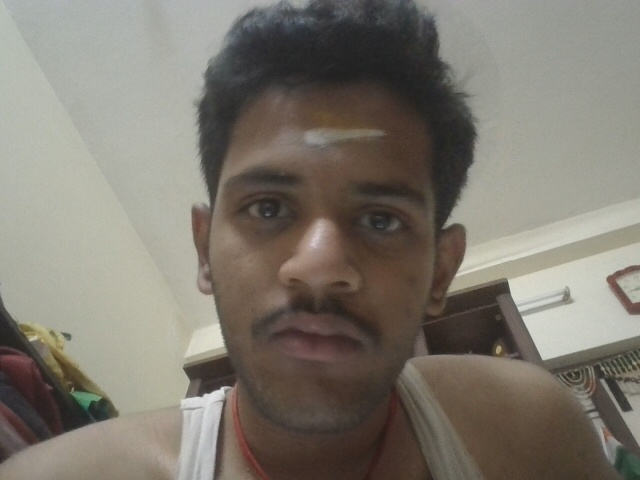real: (167, 91, 481, 405)
